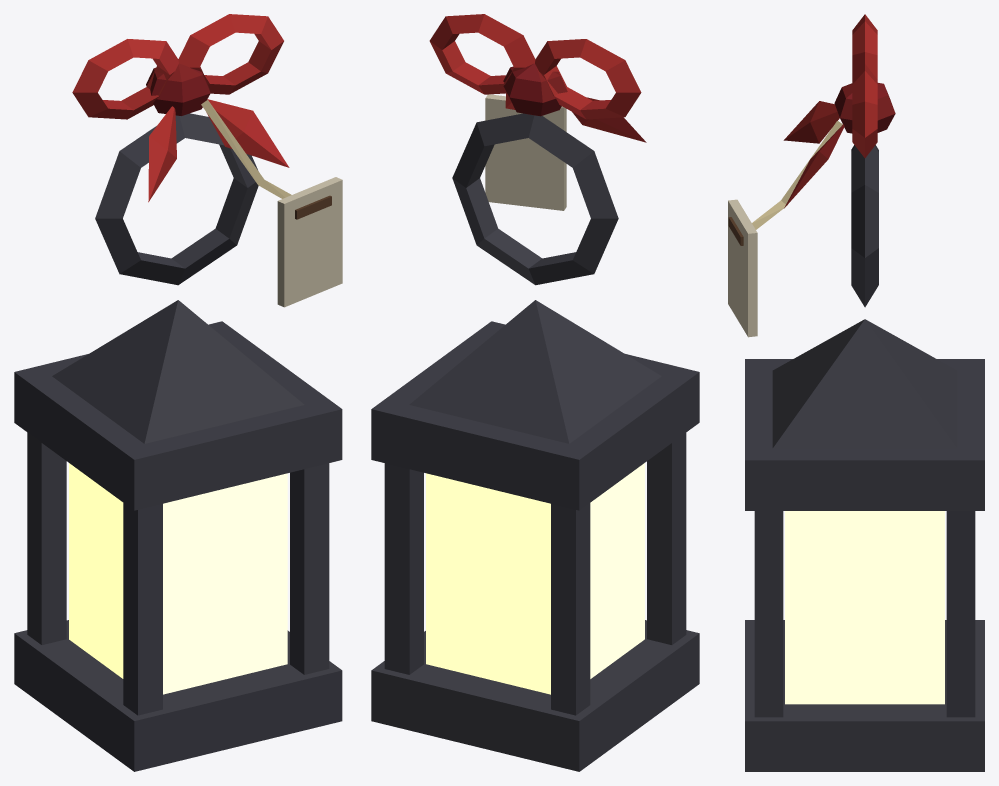
Rendered from quest_lantern.glb.
3 renders of one model, left to right at view 1: azimuth 30°, elevation 25°; view 2: azimuth 150°, elevation 25°; view 3: azimuth 270°, elevation 25°, orthographic.
Visible parts, largest first — view 1: quest_lantern; view 2: quest_lantern; view 3: quest_lantern.
Boxes of the visible parts, x1,y1,x2,y2 form: quest_lantern: (14, 14, 342, 771); quest_lantern: (371, 14, 699, 771); quest_lantern: (728, 14, 984, 771).
Bounding box in the file's own units: 0.15 × 0.4573 × 0.1577.
